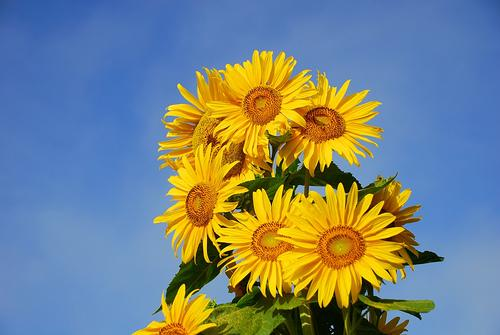sunflower: (279, 181, 407, 313), (159, 62, 268, 191), (156, 146, 245, 268), (210, 46, 316, 141), (283, 74, 383, 173), (219, 186, 303, 296)
